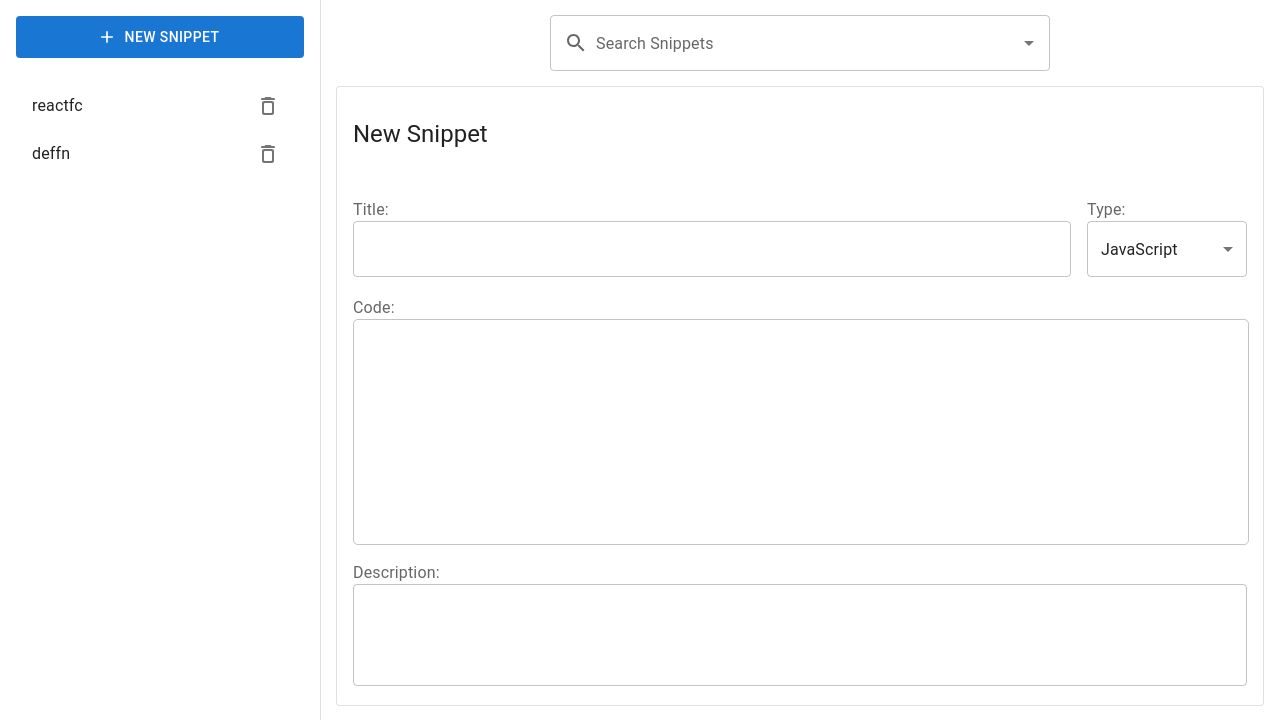
Test: Snippet Editor Dirty Test › remove dirty status and navigate to another snippet
Step 1. Type "sample code" into the field → (712, 249), box [353, 221, 1071, 277]
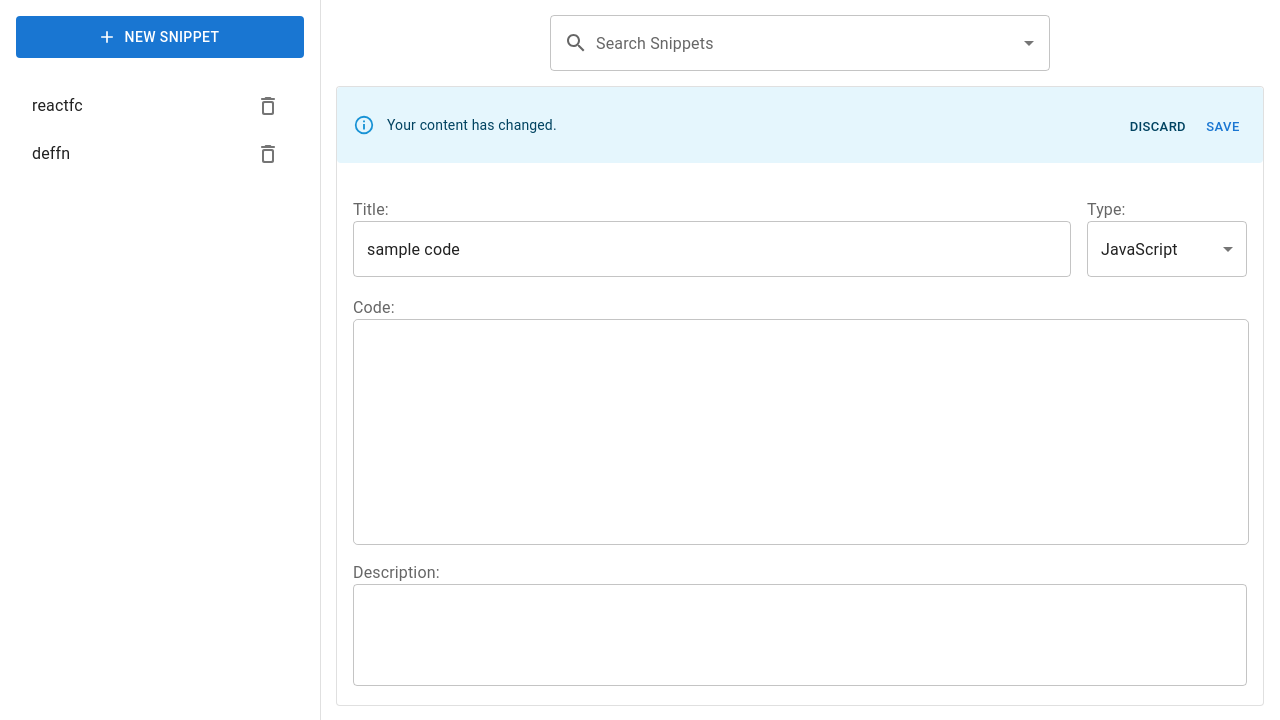
Note: Remove Dirty
Step 2. Clear the field → (712, 249), box [353, 221, 1071, 277]
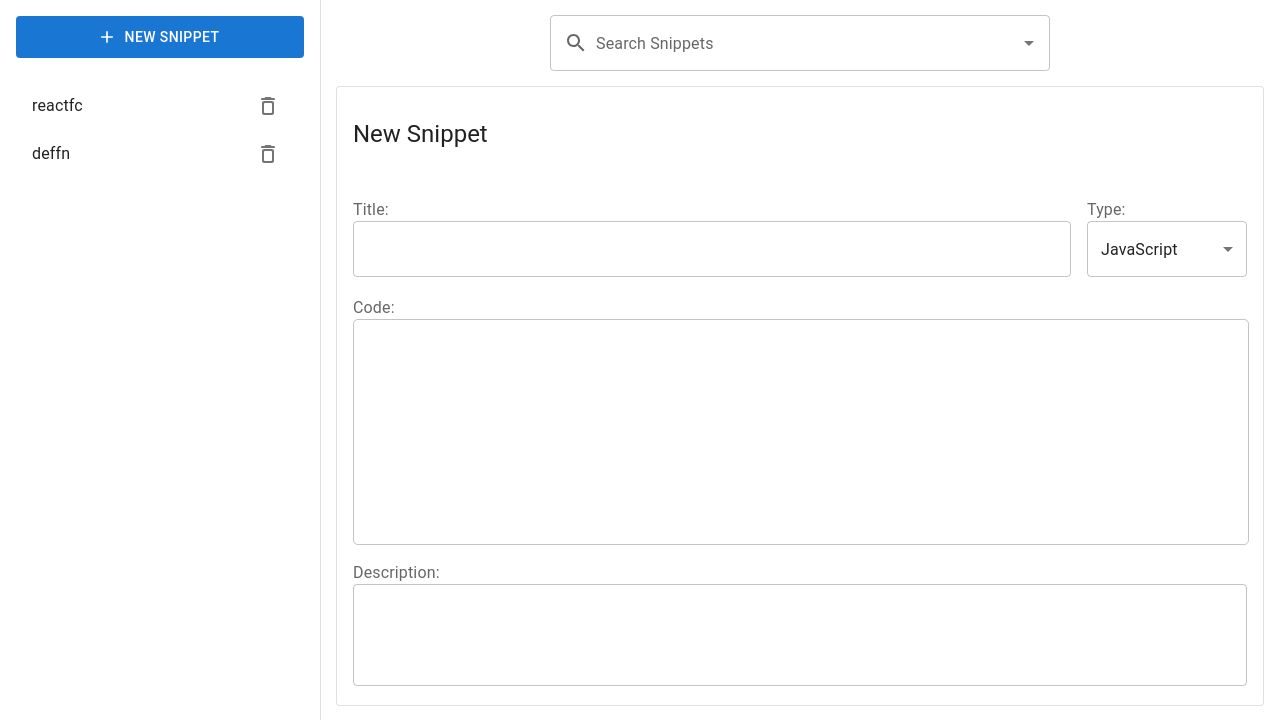
Step 3. Click the button "reactfc" → (57, 106), box [32, 94, 280, 118]
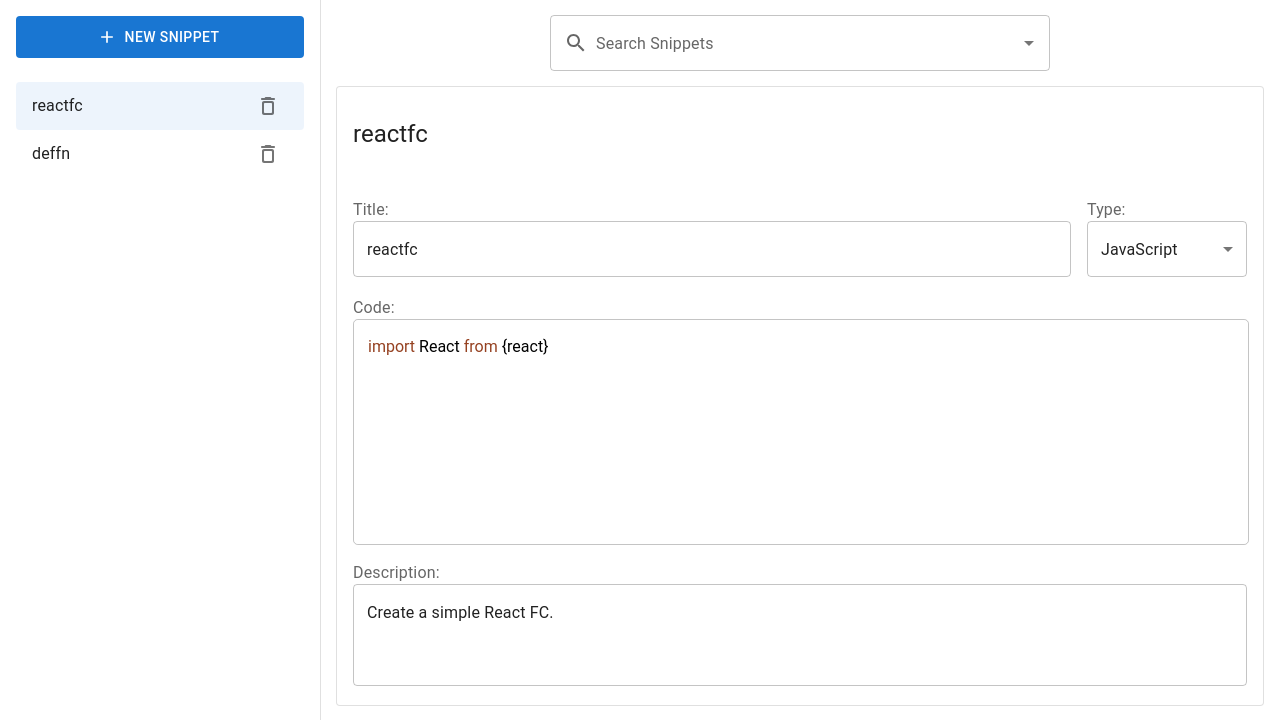
Expected: the field holds "reactfc", [353, 221, 1071, 277]
